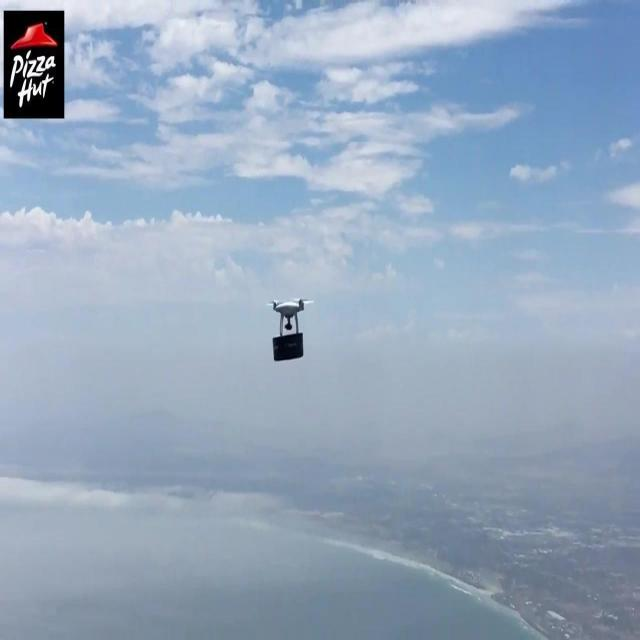UAV: (266, 299, 314, 336)
